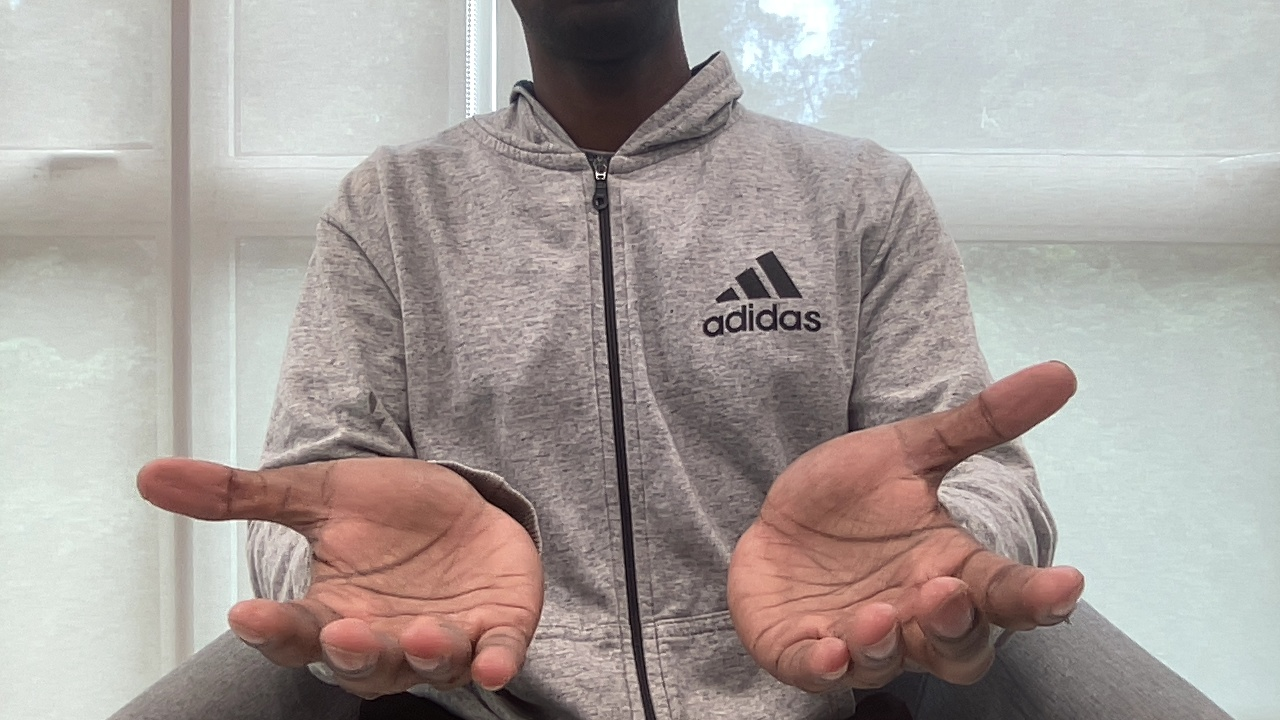give: (120, 355, 1098, 706)
